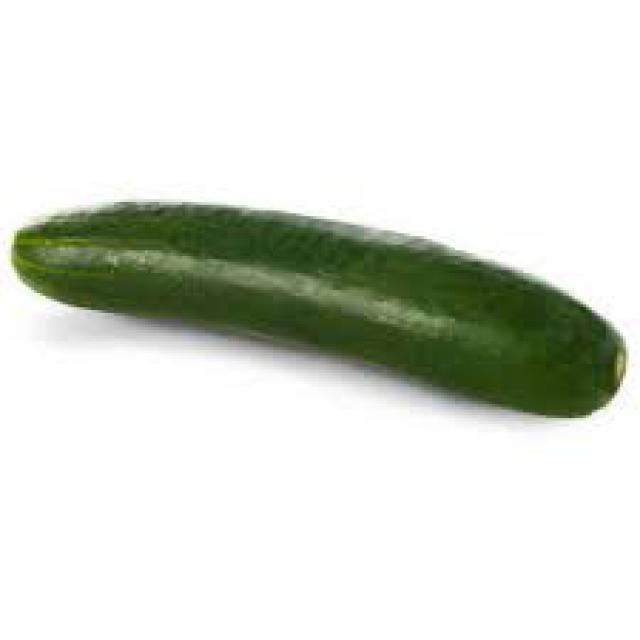cucumber: (6, 185, 634, 427)
